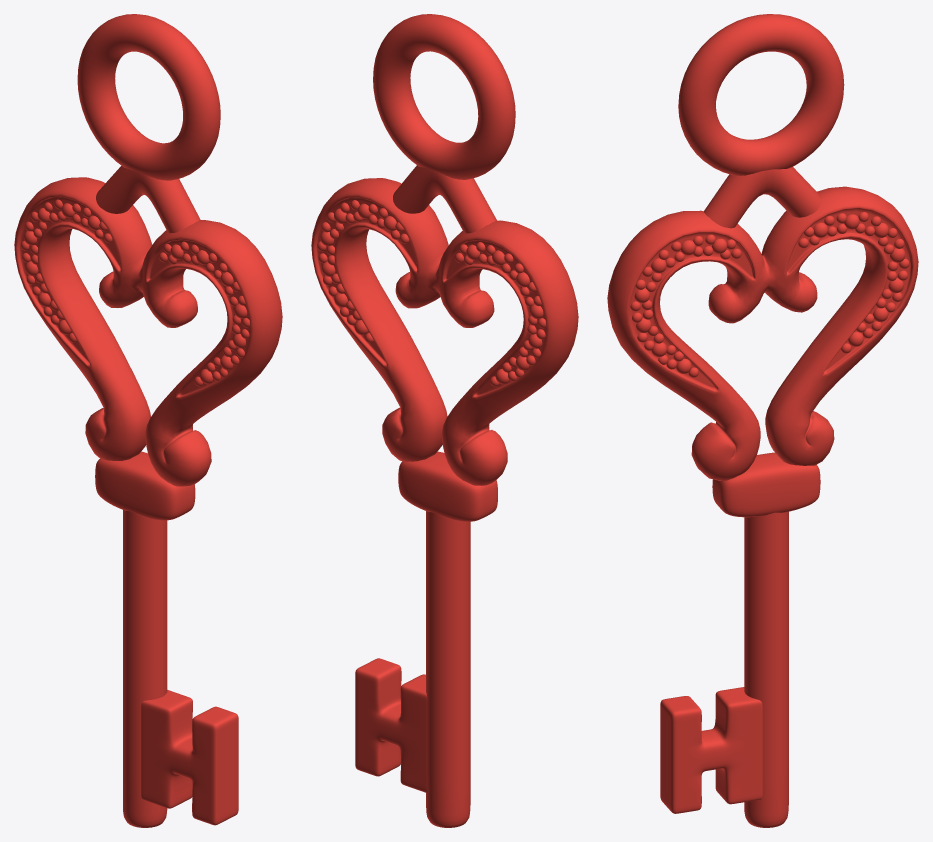
Rendered from KeyModel.glb.
The picture shows the model from 3 angles, left to right: view 1: azimuth 30°, elevation 25°; view 2: azimuth 210°, elevation 25°; view 3: azimuth 270°, elevation 25°; orthographic projection.
Visible parts, largest first — view 1: 21929_Key_v1; view 2: 21929_Key_v1; view 3: 21929_Key_v1.
Boxes of the visible parts, x1,y1,x2,y2 form: 21929_Key_v1: [14, 14, 282, 827]; 21929_Key_v1: [311, 14, 578, 827]; 21929_Key_v1: [607, 14, 918, 827].
Size of the model in its own units: 0.3693 by 2.17 by 0.7577.
